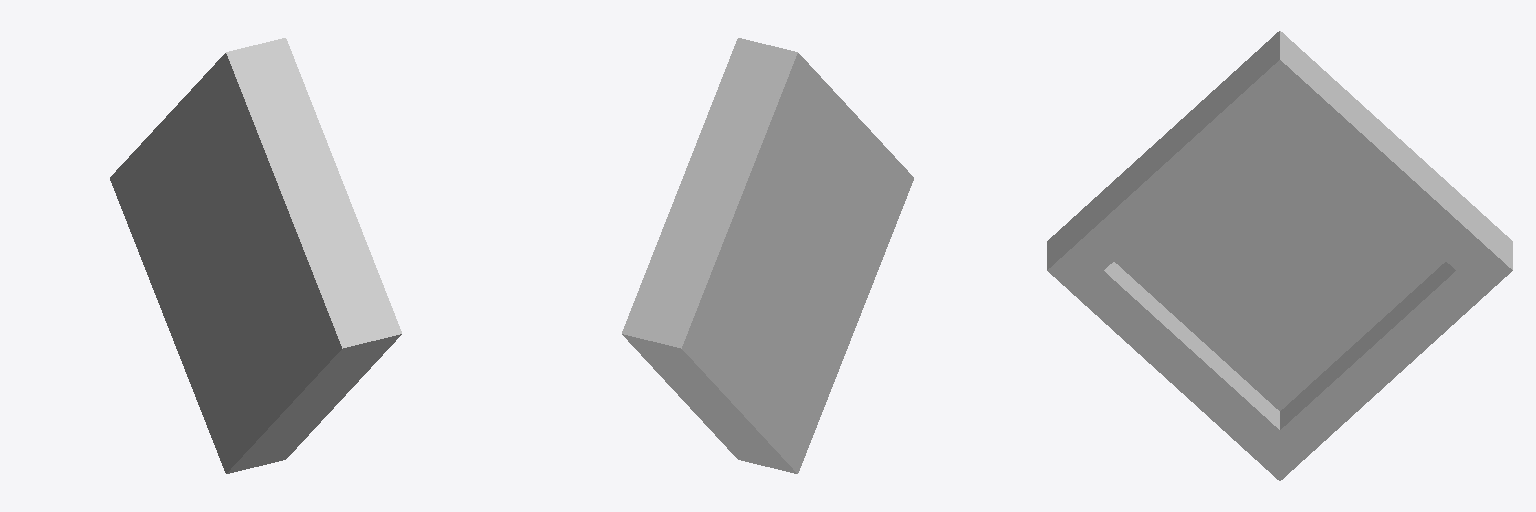
File: coin.obj
3 views of the same model, side by side, from view 1: azimuth 30°, elevation 25°; view 2: azimuth 150°, elevation 25°; view 3: azimuth 270°, elevation 25° (orthographic).
Visible parts, largest first — view 1: Cube; view 2: Cube; view 3: Cube.
Part boxes in pixels (x1,y1,x2,y2): Cube: (110, 38, 401, 473); Cube: (622, 38, 913, 473); Cube: (1047, 31, 1512, 480).
Bounding box in the file's own units: 0.4215 × 2.83 × 2.83.